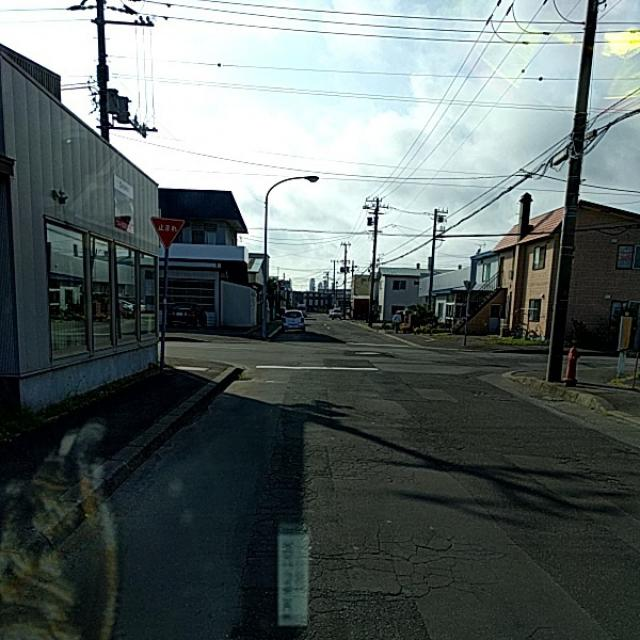pothole: (306, 496, 453, 598), (319, 402, 530, 464)
